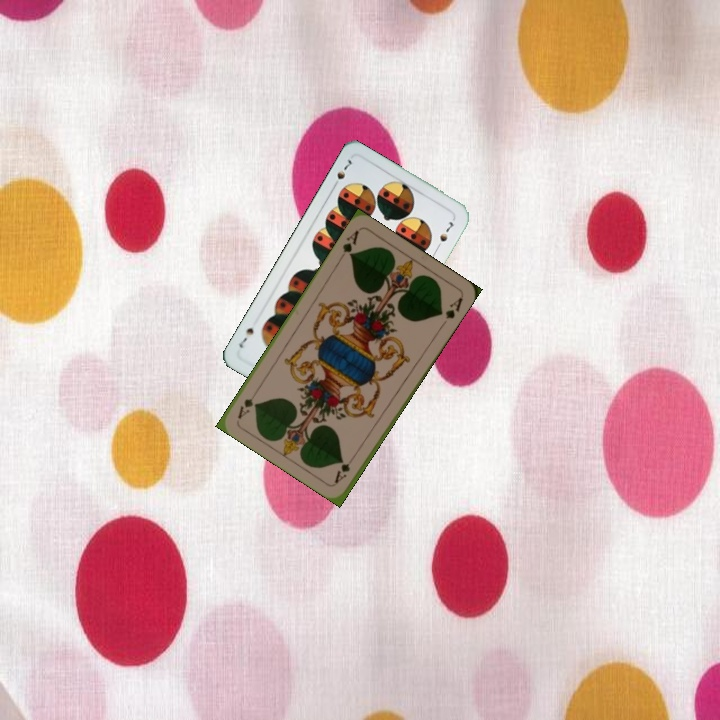GA: (330, 450, 359, 486), (335, 226, 362, 263)
S7: (328, 155, 354, 191)
